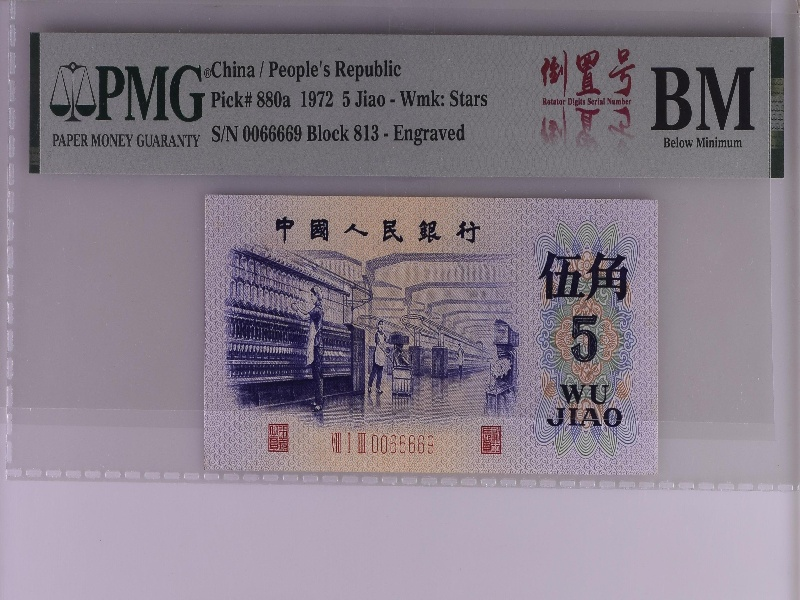papernote: (203, 191, 661, 480)
